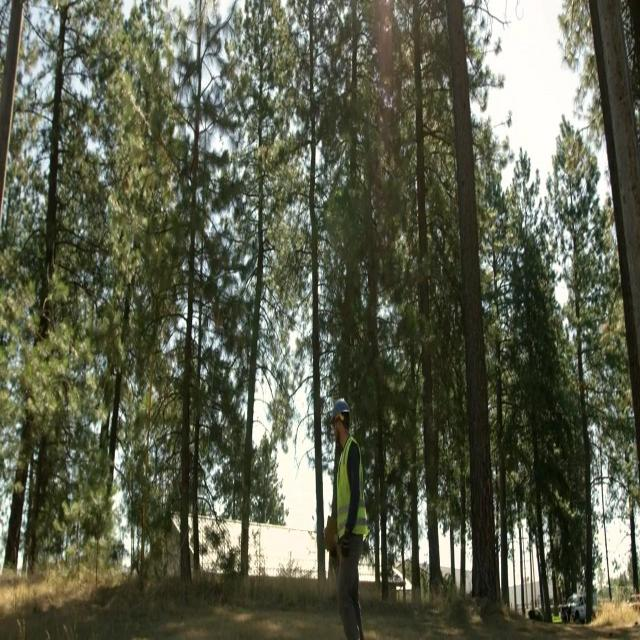Reflective-Jacket: (326, 434, 372, 556)
Safety-Helmet: (326, 388, 356, 428)
